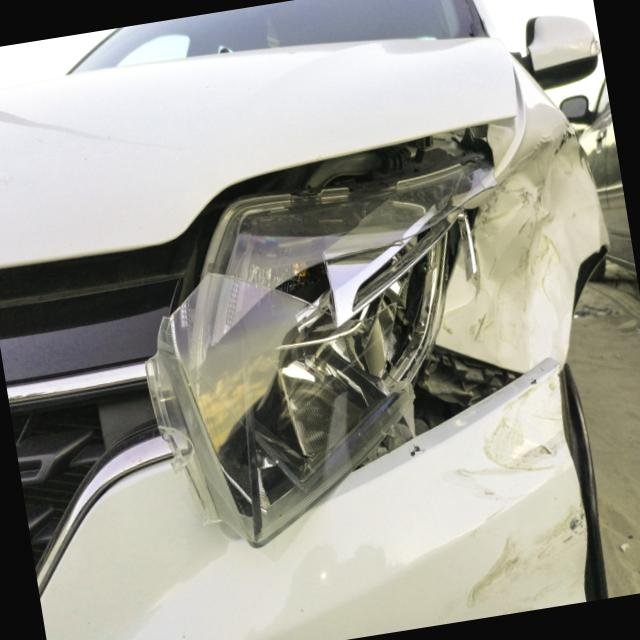Cabossage: (444, 96, 620, 400)
Phare abime: (133, 144, 526, 537)
Rayure: (434, 397, 606, 621)
